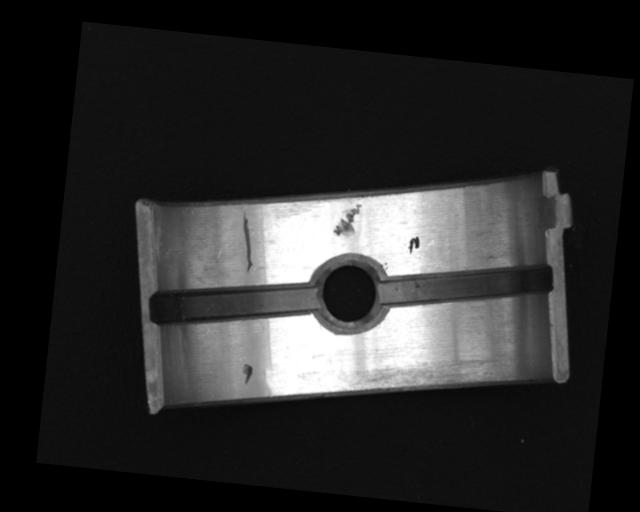blot: (406, 234, 422, 256)
bruise: (333, 201, 362, 238), (241, 363, 253, 385)
gap: (376, 248, 554, 322), (150, 266, 319, 339)
hole: (308, 255, 389, 336)
nick: (236, 209, 258, 273)
scratch: (346, 345, 495, 406)
